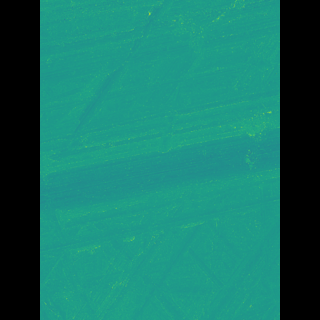Loch: (68, 186, 251, 320), (69, 0, 197, 164)
